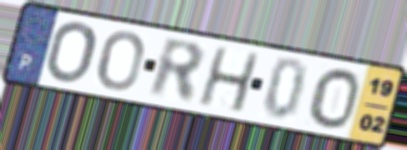0: (262, 57, 311, 123)
H: (195, 45, 262, 116)
O: (44, 20, 99, 85), (307, 66, 362, 130), (96, 29, 146, 92)
R: (147, 35, 207, 107)
